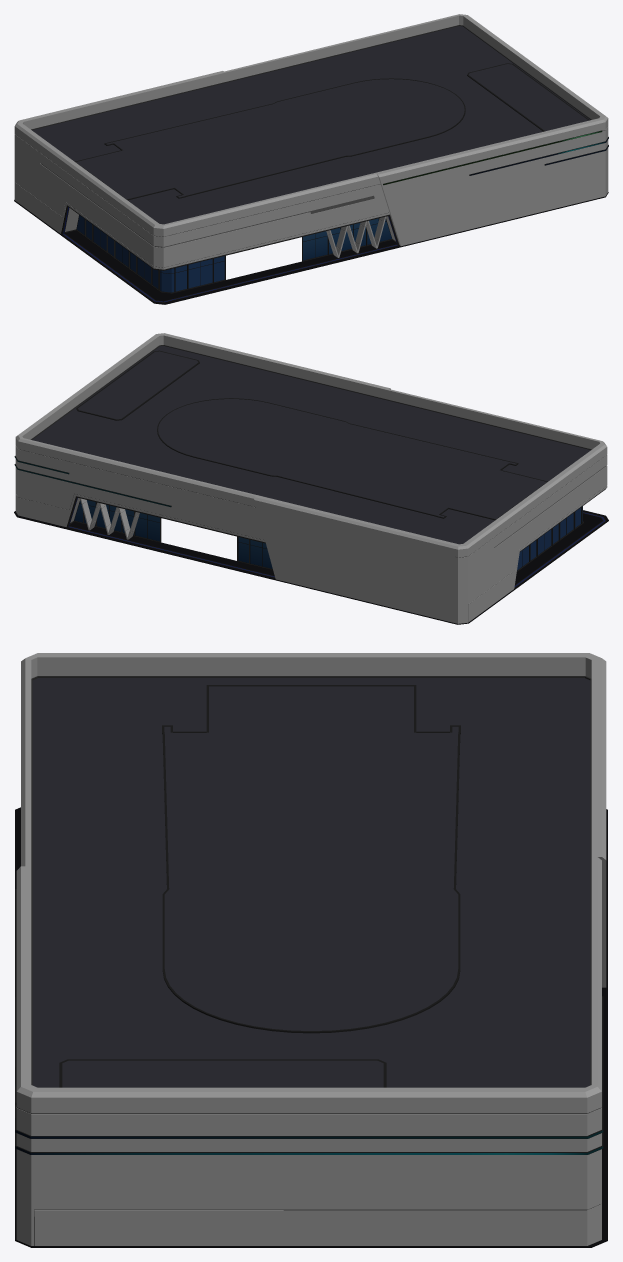
Rendered from Building_Kyobo_002_1st_L0.fbx.
3 renders of one model, top to bottom at view 1: azimuth 30°, elevation 25°; view 2: azimuth 150°, elevation 25°; view 3: azimuth 270°, elevation 25°, orthographic. The views are drawn at different scales.
Parts seen in each view (by area): view 1: Building_Kyobo_002_1st_L0; view 2: Building_Kyobo_002_1st_L0; view 3: Building_Kyobo_002_1st_L0.
Part boxes in pixels (box(x1,y1,x2,y2)): Building_Kyobo_002_1st_L0: box(14, 14, 608, 304); Building_Kyobo_002_1st_L0: box(14, 333, 608, 624); Building_Kyobo_002_1st_L0: box(15, 653, 607, 1247).
Size of the model in its own units: 71.22 by 40.2 by 11.5.
